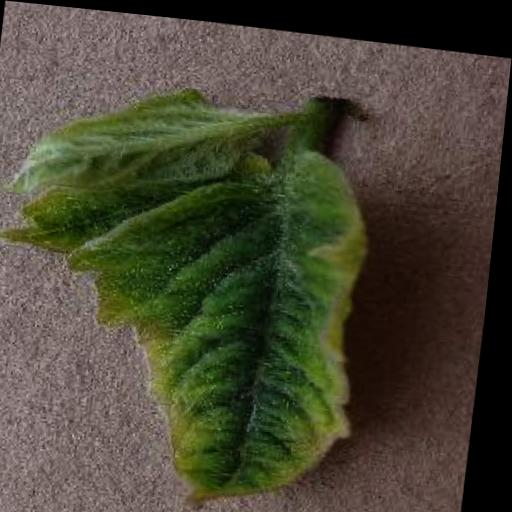Yellow Leaf Curl Virus: (0, 58, 397, 512)
